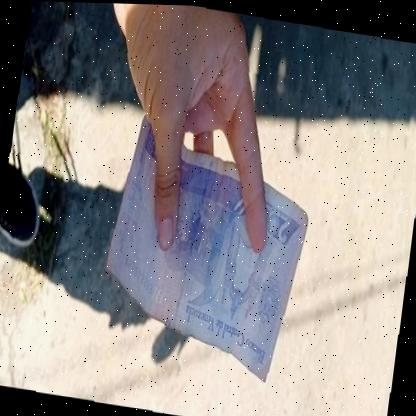ten-back-vef: (96, 109, 318, 384)
